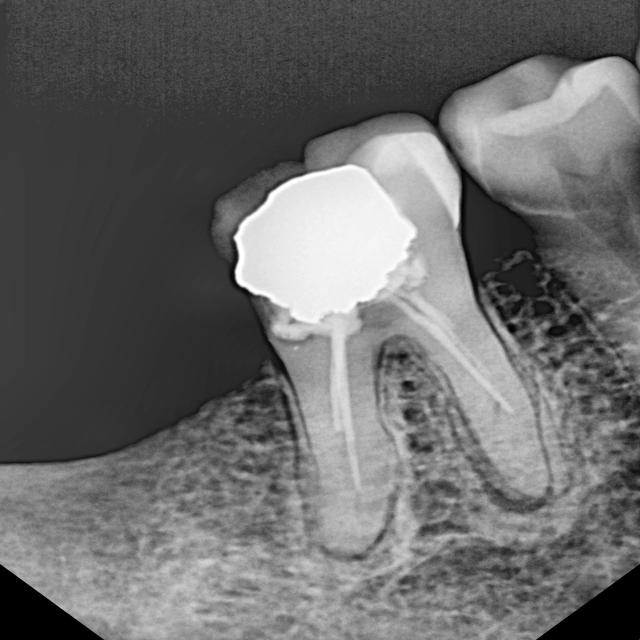RCT: (292, 317, 546, 501)
Restoration: (229, 162, 424, 322)
